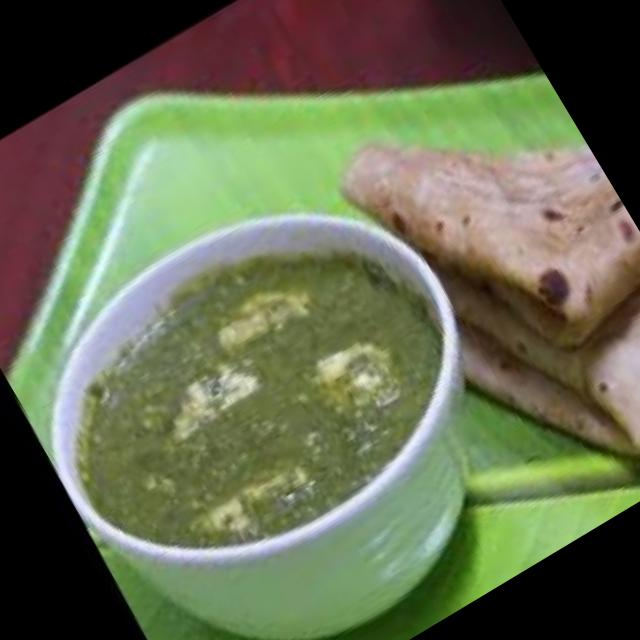palak_paneer: (15, 188, 493, 622)
